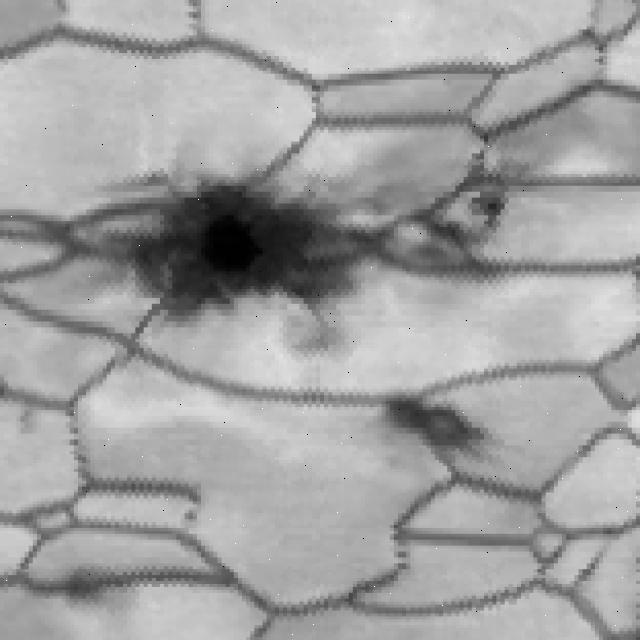good_void: (108, 173, 381, 332), (366, 385, 511, 468), (389, 208, 514, 282), (54, 563, 145, 613), (277, 316, 356, 362), (469, 181, 515, 225), (12, 402, 49, 439)
